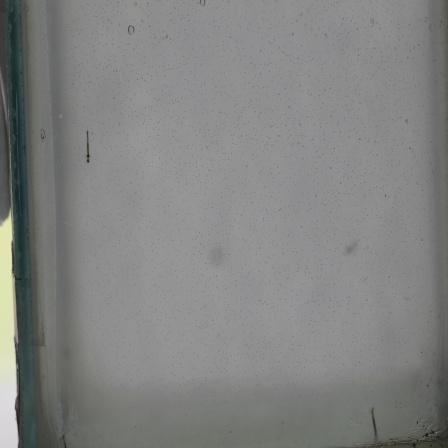Jentik-Nyamuk: (367, 404, 385, 443), (82, 128, 94, 166)
